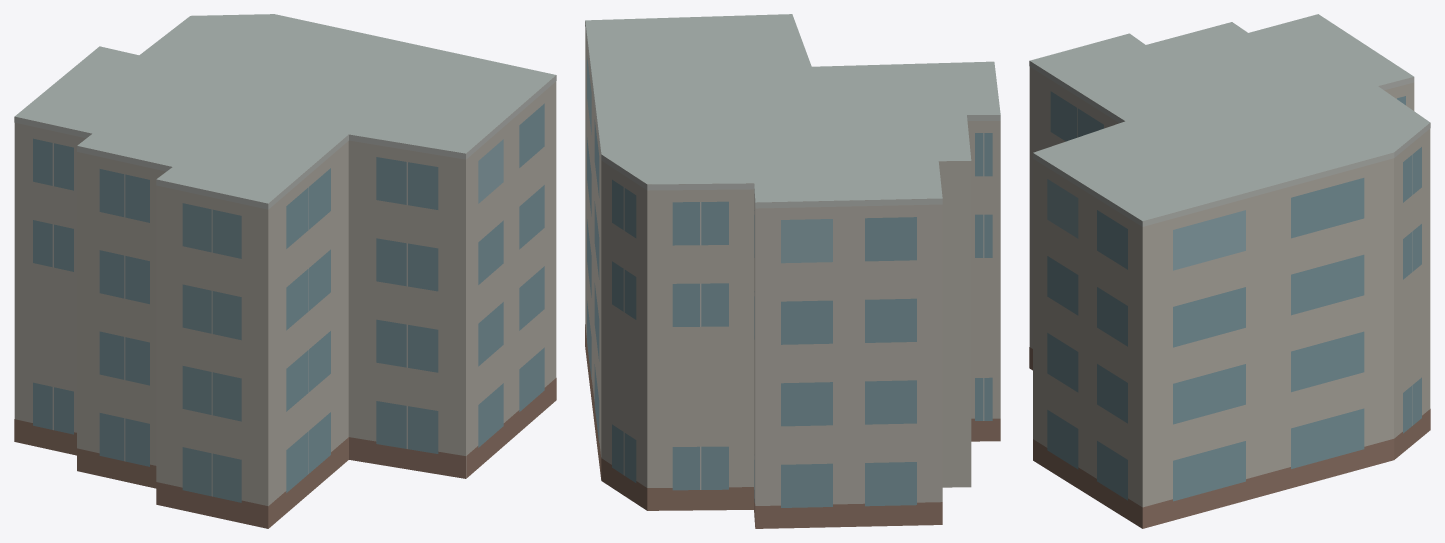
File: survey-upis-32872896.glb
3 views of the same model, side by side, from view 1: azimuth 30°, elevation 25°; view 2: azimuth 150°, elevation 25°; view 3: azimuth 270°, elevation 25° (orthographic). The views are drawn at different scales.
Parts seen in each view (by area): view 1: survey-upis-32872896.tmp; view 2: survey-upis-32872896.tmp; view 3: survey-upis-32872896.tmp.
Boxes of the visible parts, x1,y1,x2,y2 form: survey-upis-32872896.tmp: [14, 14, 556, 528]; survey-upis-32872896.tmp: [585, 14, 1000, 528]; survey-upis-32872896.tmp: [1029, 14, 1430, 528].
Size of the model in its own units: 18.95 by 13.11 by 15.49.
